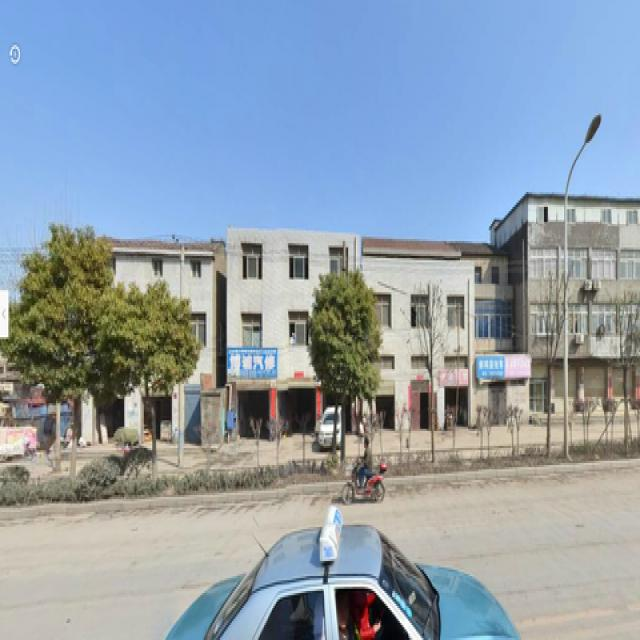cinn: (306, 265, 378, 467)
